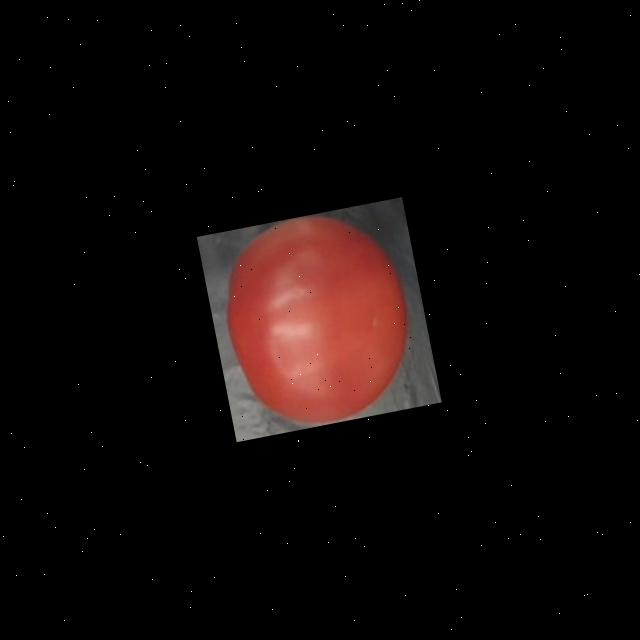tomato: (210, 201, 428, 440)
